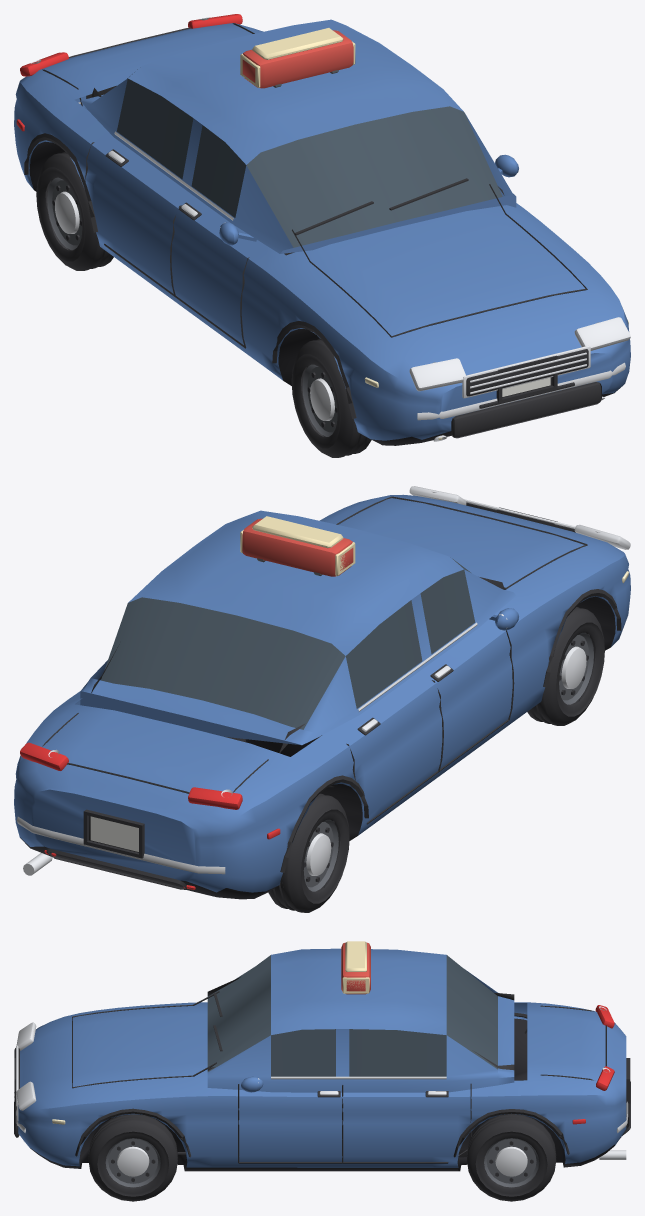
File: CarV2_Cab.fbx
3 views of the same model, one above another, from view 1: azimuth 30°, elevation 25°; view 2: azimuth 150°, elevation 25°; view 3: azimuth 270°, elevation 25° (orthographic). The views are drawn at different scales.
Visible parts, largest first — view 1: CarV2_Cab; view 2: CarV2_Cab; view 3: CarV2_Cab.
Part boxes in pixels (box(x1,y1,x2,y2)): CarV2_Cab: box(14, 14, 630, 457); CarV2_Cab: box(14, 486, 630, 912); CarV2_Cab: box(14, 941, 630, 1201).
Size of the model in its own units: 1.86 by 1.65 by 4.57.
